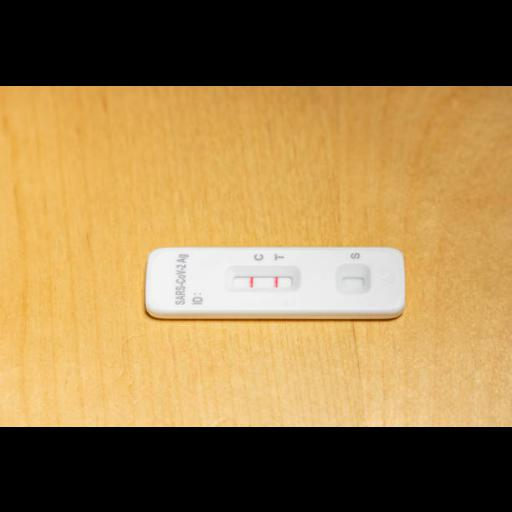Pos: (148, 248, 402, 314)
